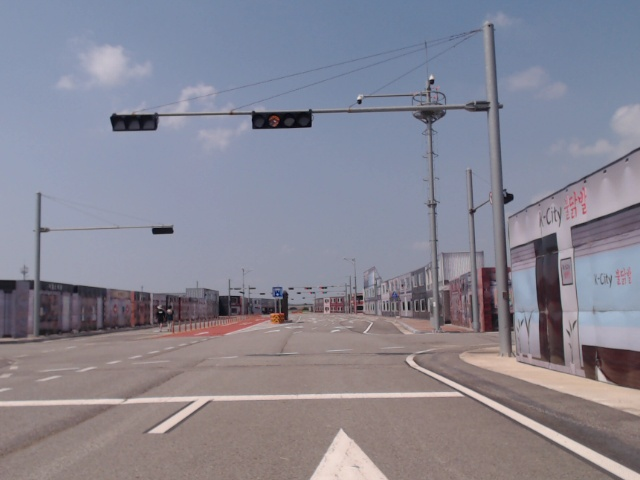orange_4: (251, 112, 312, 128)
